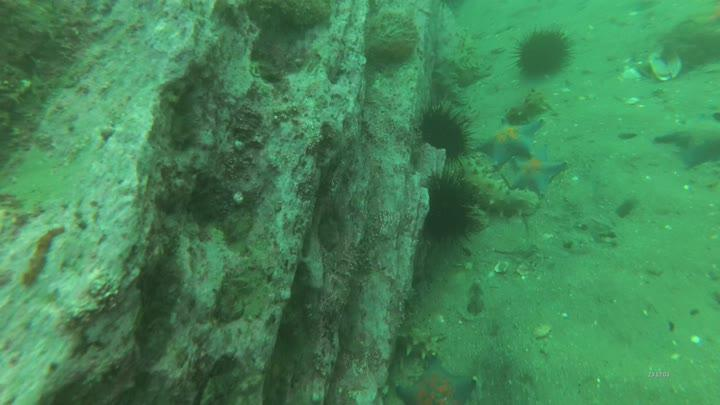urchin: (409, 167, 473, 247), (508, 27, 577, 84), (418, 102, 470, 156)
